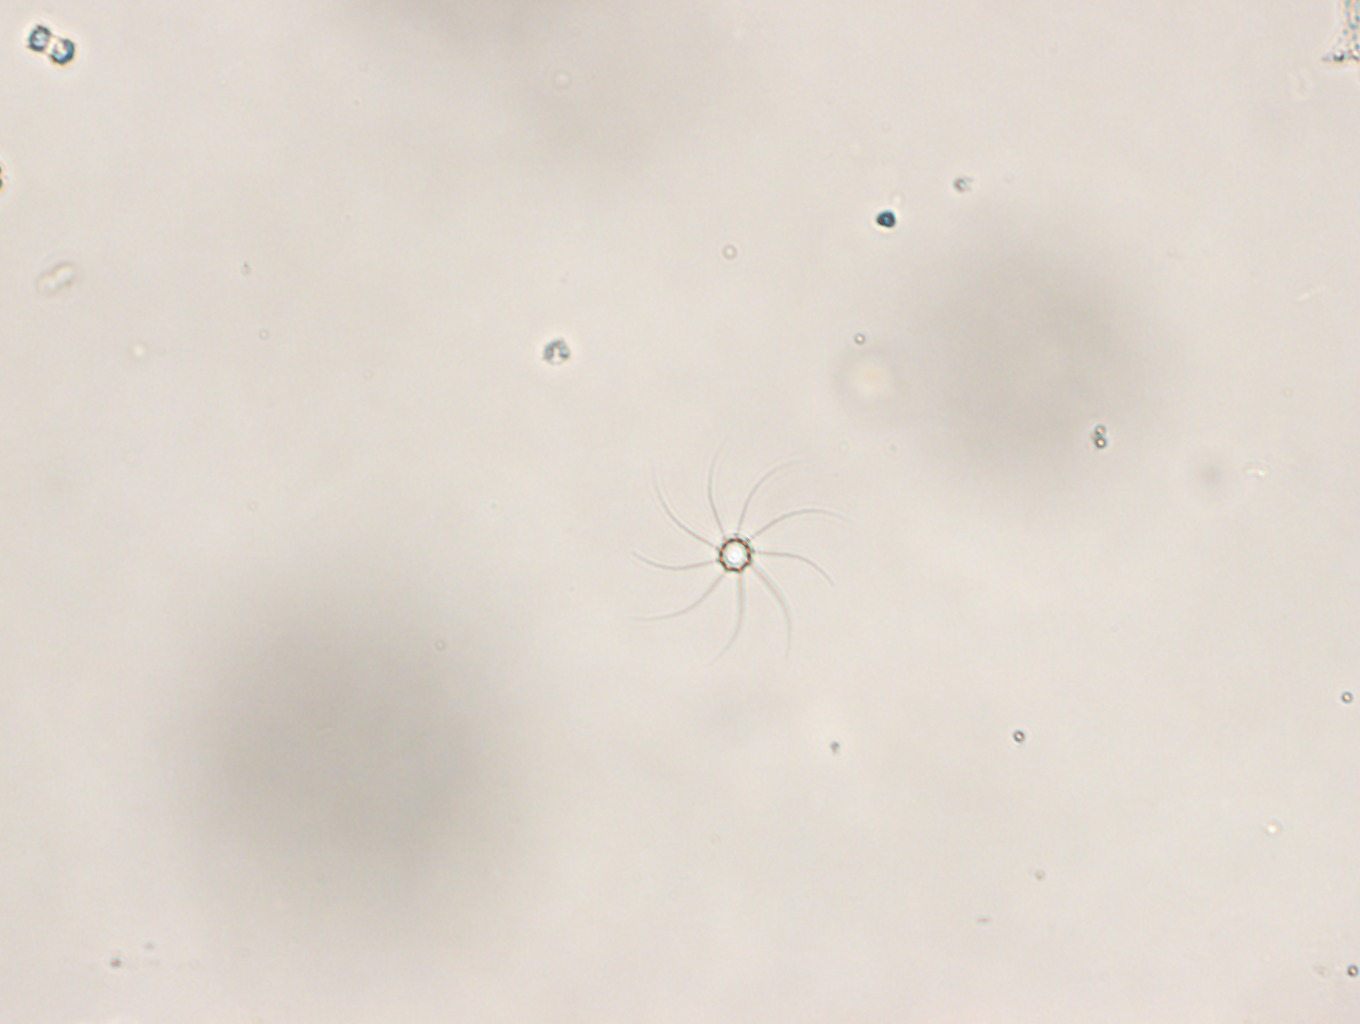bacteriastrum: (612, 439, 856, 662)
